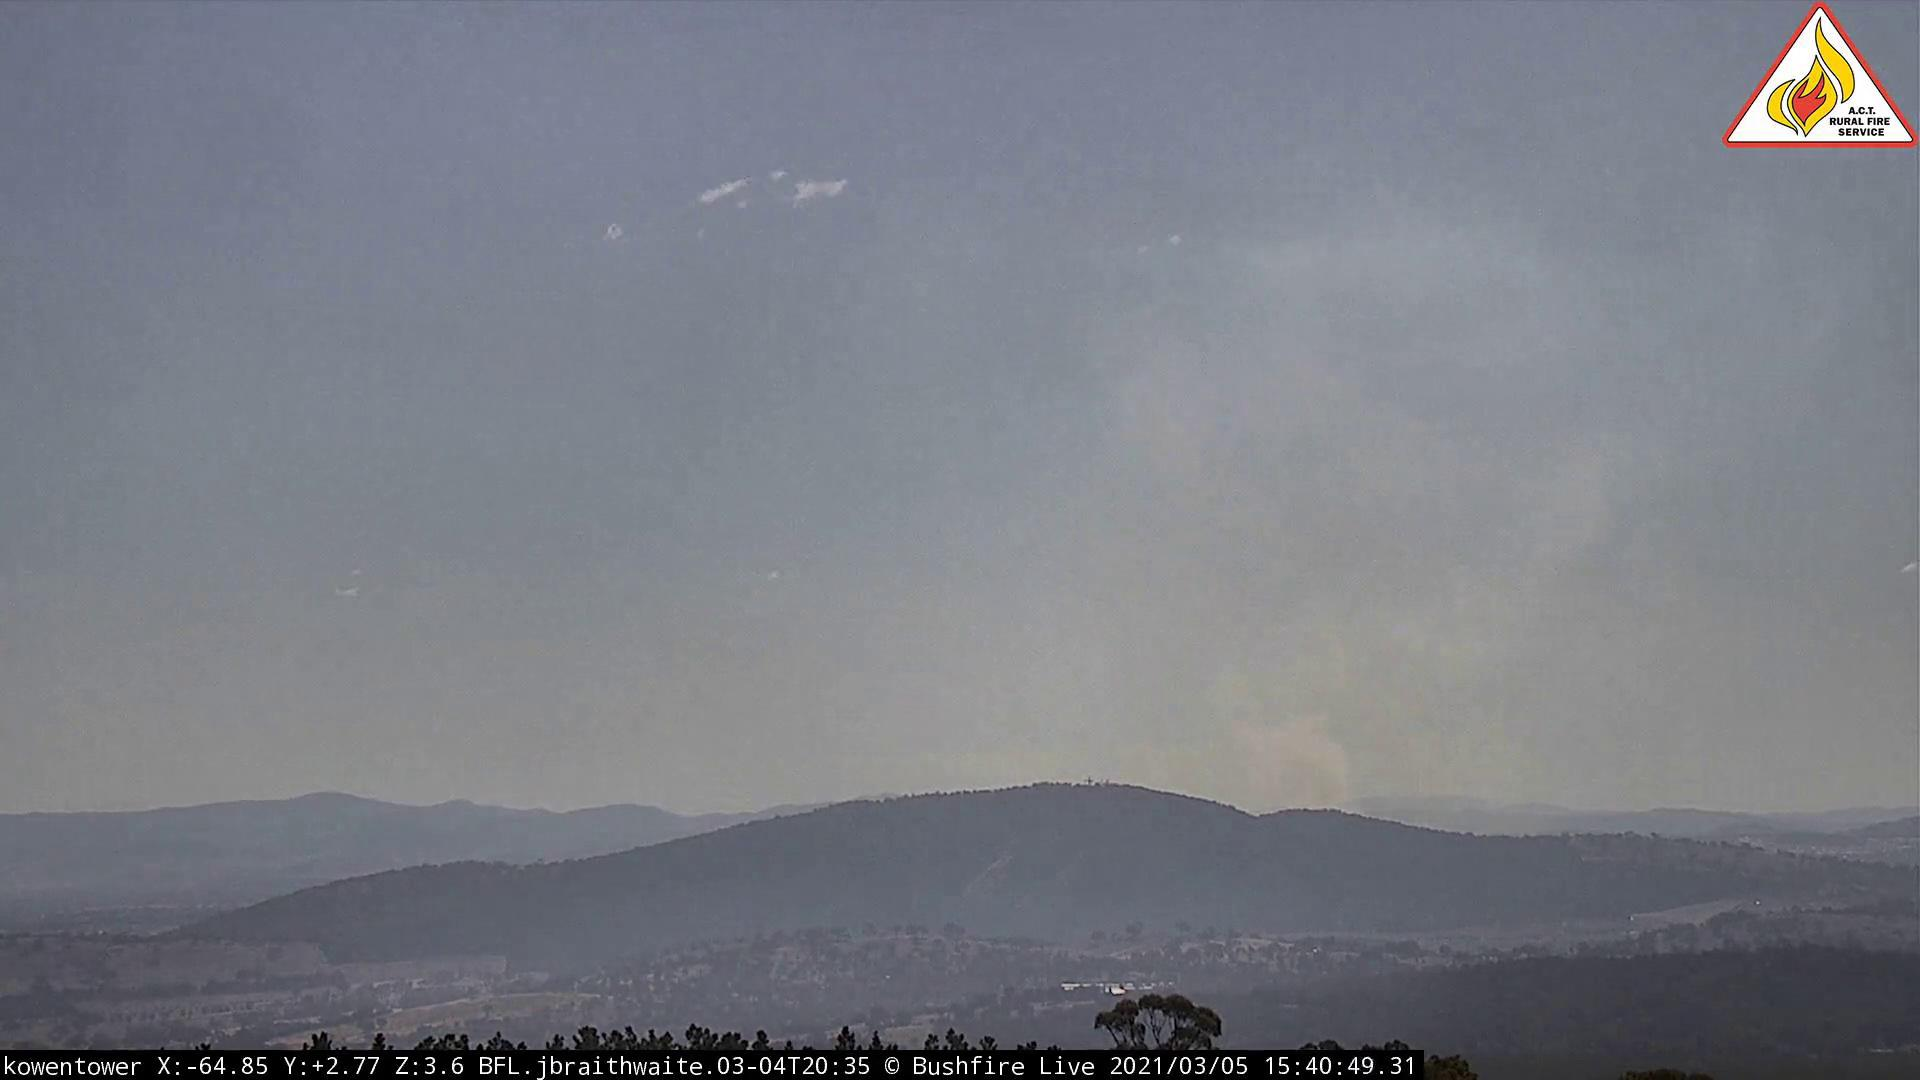instance_salient_object: (825, 196, 1683, 835)
